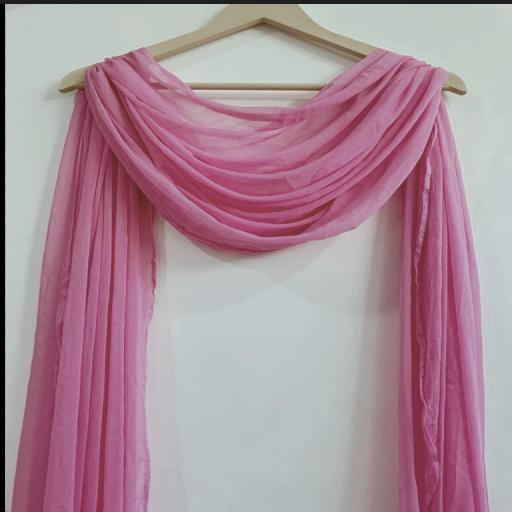Dupatta: (16, 51, 496, 512)
